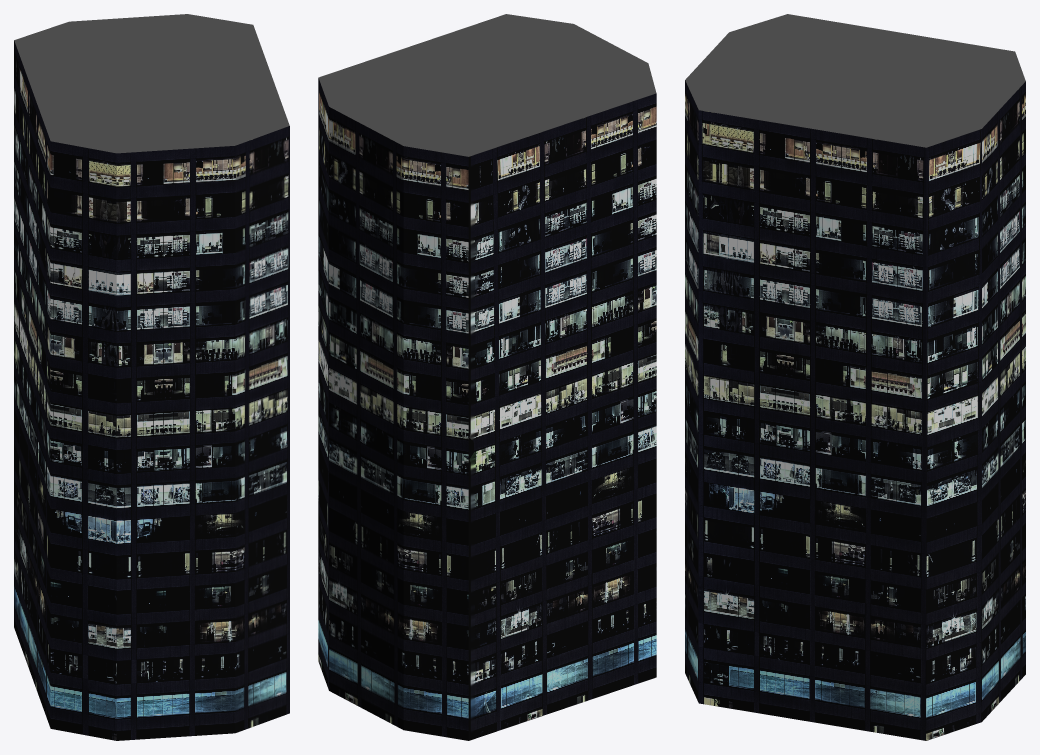
File: Building_02 - Copy.fbx
The picture shows the model from 3 angles, left to right: view 1: azimuth 30°, elevation 25°; view 2: azimuth 150°, elevation 25°; view 3: azimuth 270°, elevation 25°; orthographic projection.
Parts seen in each view (by area): view 1: Building_02; view 2: Building_02; view 3: Building_02.
Boxes of the visible parts, x1,y1,x2,y2 form: Building_02: [14, 14, 289, 740]; Building_02: [318, 14, 656, 740]; Building_02: [685, 14, 1025, 740].
Bounding box in the file's own units: 2659 × 5501 × 2864.
